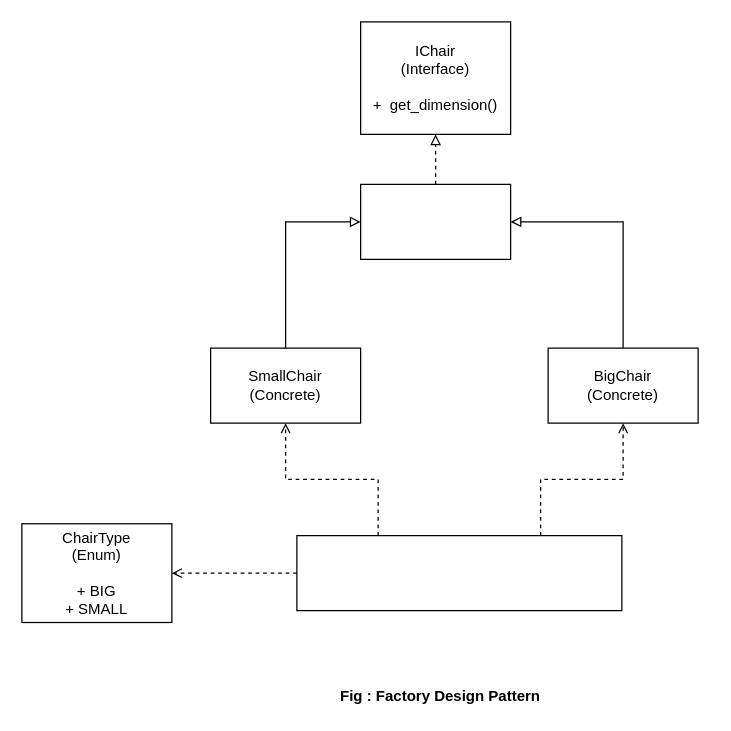
This 731x731 diagram has some shape labels left out. Each missing label, with the centre of its shape:
"Chair (Abstract)" belongs at point (435, 221).
"ChairFactory + get_chair(chair_type: ChairType) : Chair" belongs at point (459, 572).
